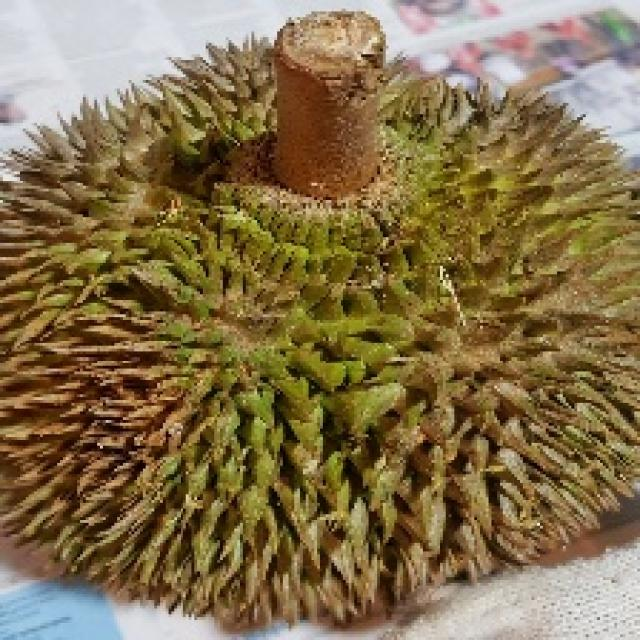d175: (0, 38, 640, 618)
